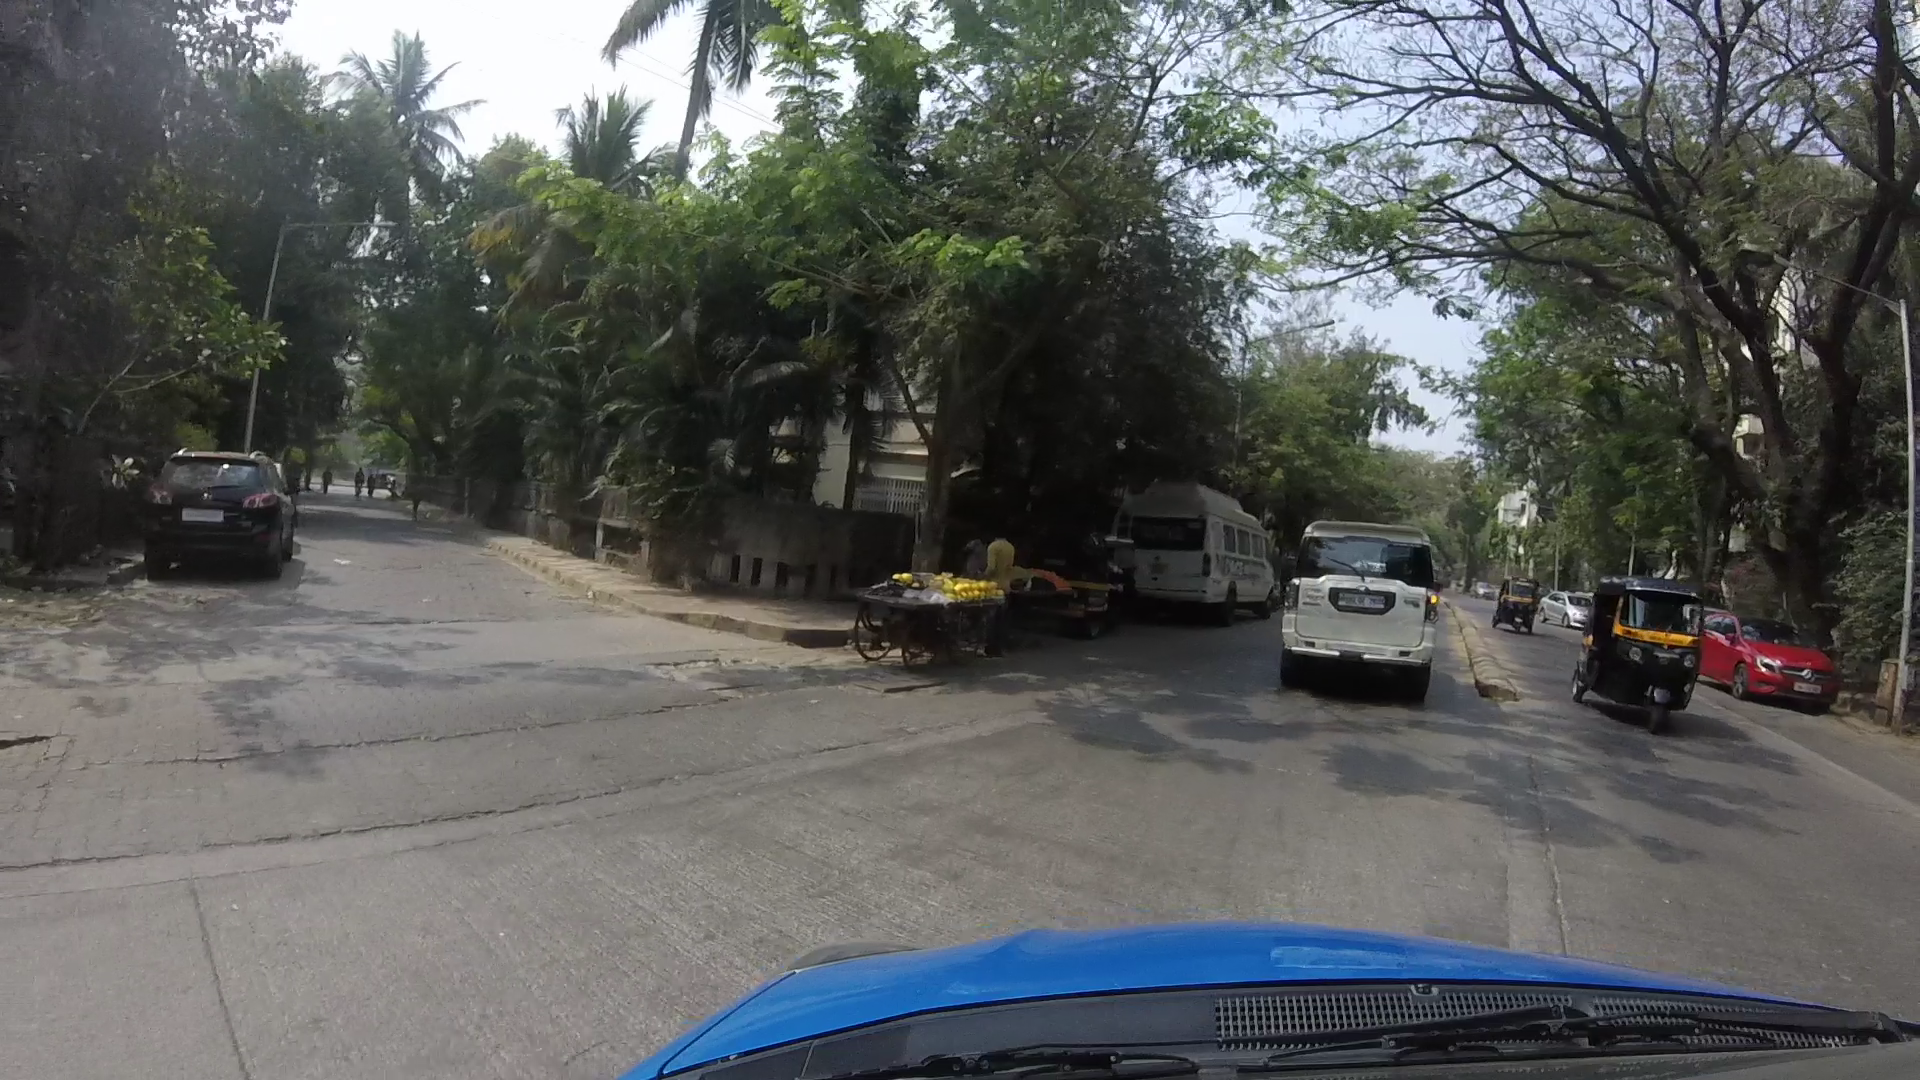bus: (1122, 464, 1274, 622)
car: (1274, 509, 1455, 705), (123, 418, 315, 574), (1698, 592, 1851, 713), (1540, 580, 1590, 634)
rickshaw: (1569, 566, 1717, 756), (1490, 553, 1556, 647)
